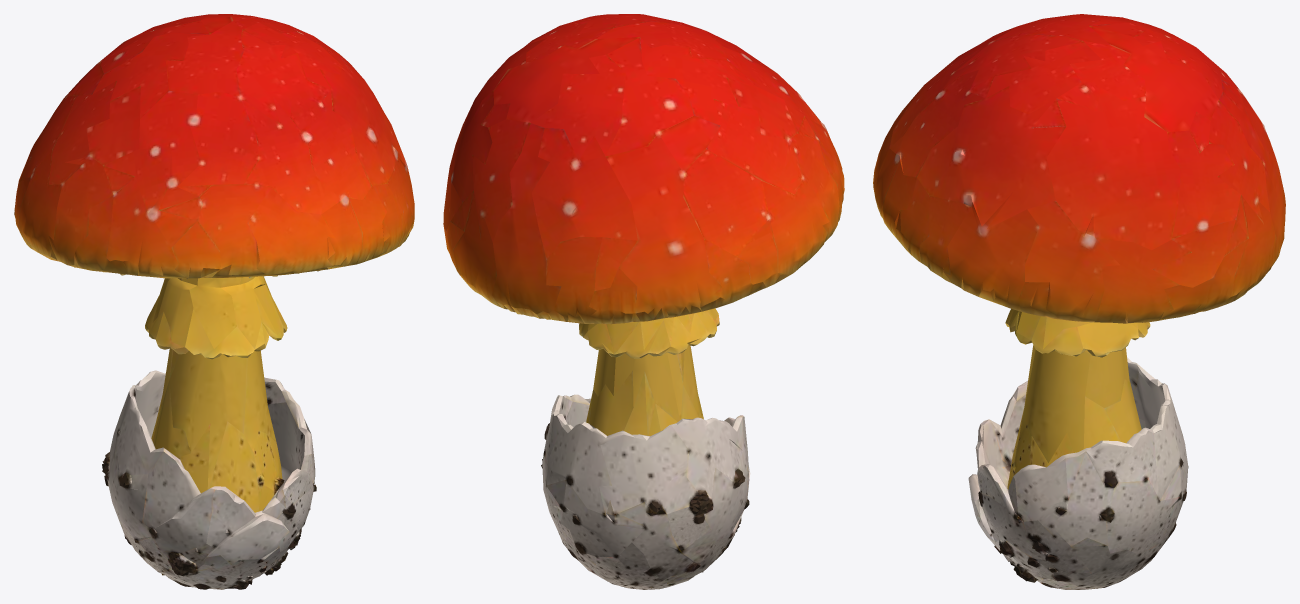
Rendered from sezar.glb.
3 renders of one model, left to right at view 1: azimuth 30°, elevation 25°; view 2: azimuth 150°, elevation 25°; view 3: azimuth 270°, elevation 25°, orthographic. The views are drawn at different scales.
Visible parts, largest first — view 1: output_unwrapped; view 2: output_unwrapped; view 3: output_unwrapped.
Part boxes in pixels (left/top/right/bottom): output_unwrapped: left=14, top=14, right=414, bottom=589; output_unwrapped: left=443, top=14, right=844, bottom=589; output_unwrapped: left=873, top=14, right=1285, bottom=589.
Bounding box in the file's own units: 1.27 × 1.9 × 1.28.
1 material, 1 textured.
